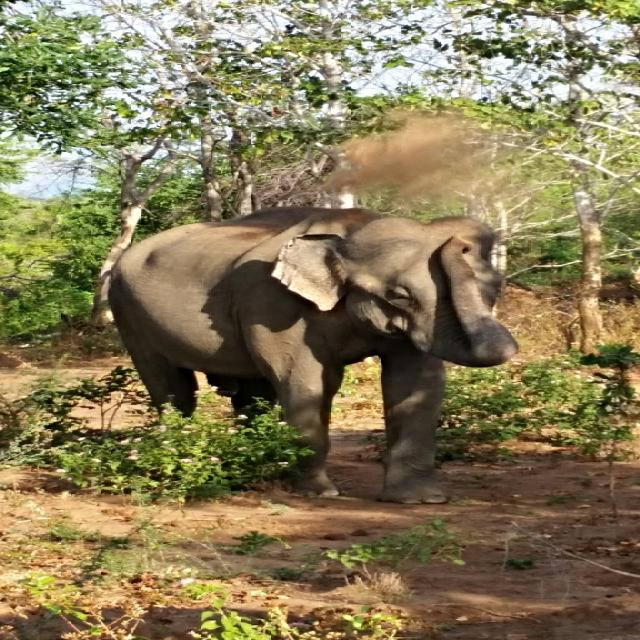Elephant: (107, 205, 519, 505)
